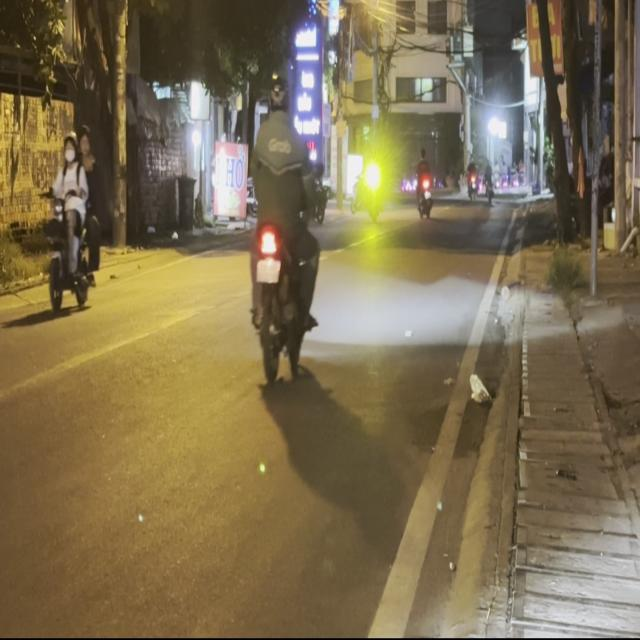helmet: (266, 74, 290, 119), (62, 129, 78, 163)
licenseplate: (243, 71, 322, 382), (41, 125, 101, 316)
motorcyclist: (76, 125, 92, 161)
nohelmet: (256, 258, 280, 281)
